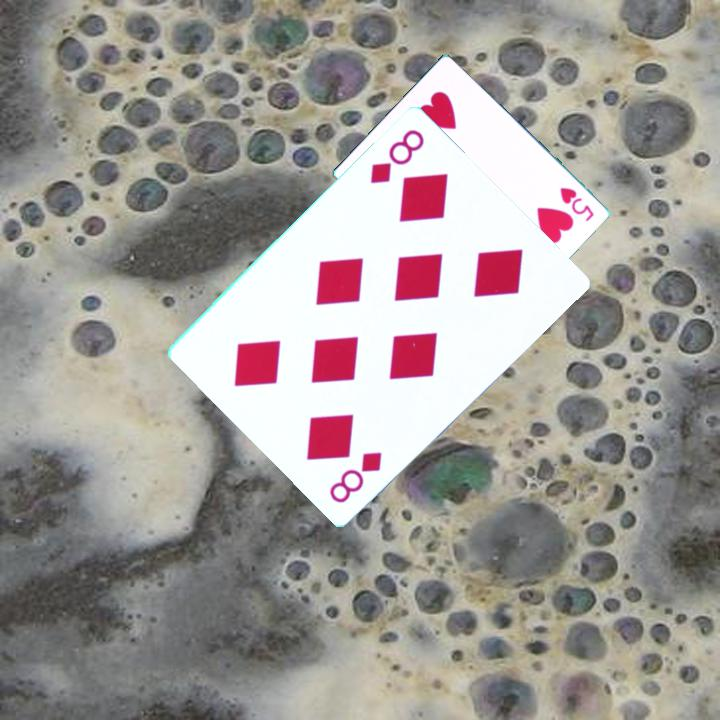5h: (556, 183, 596, 224)
8d: (366, 125, 427, 186), (326, 447, 385, 506)
